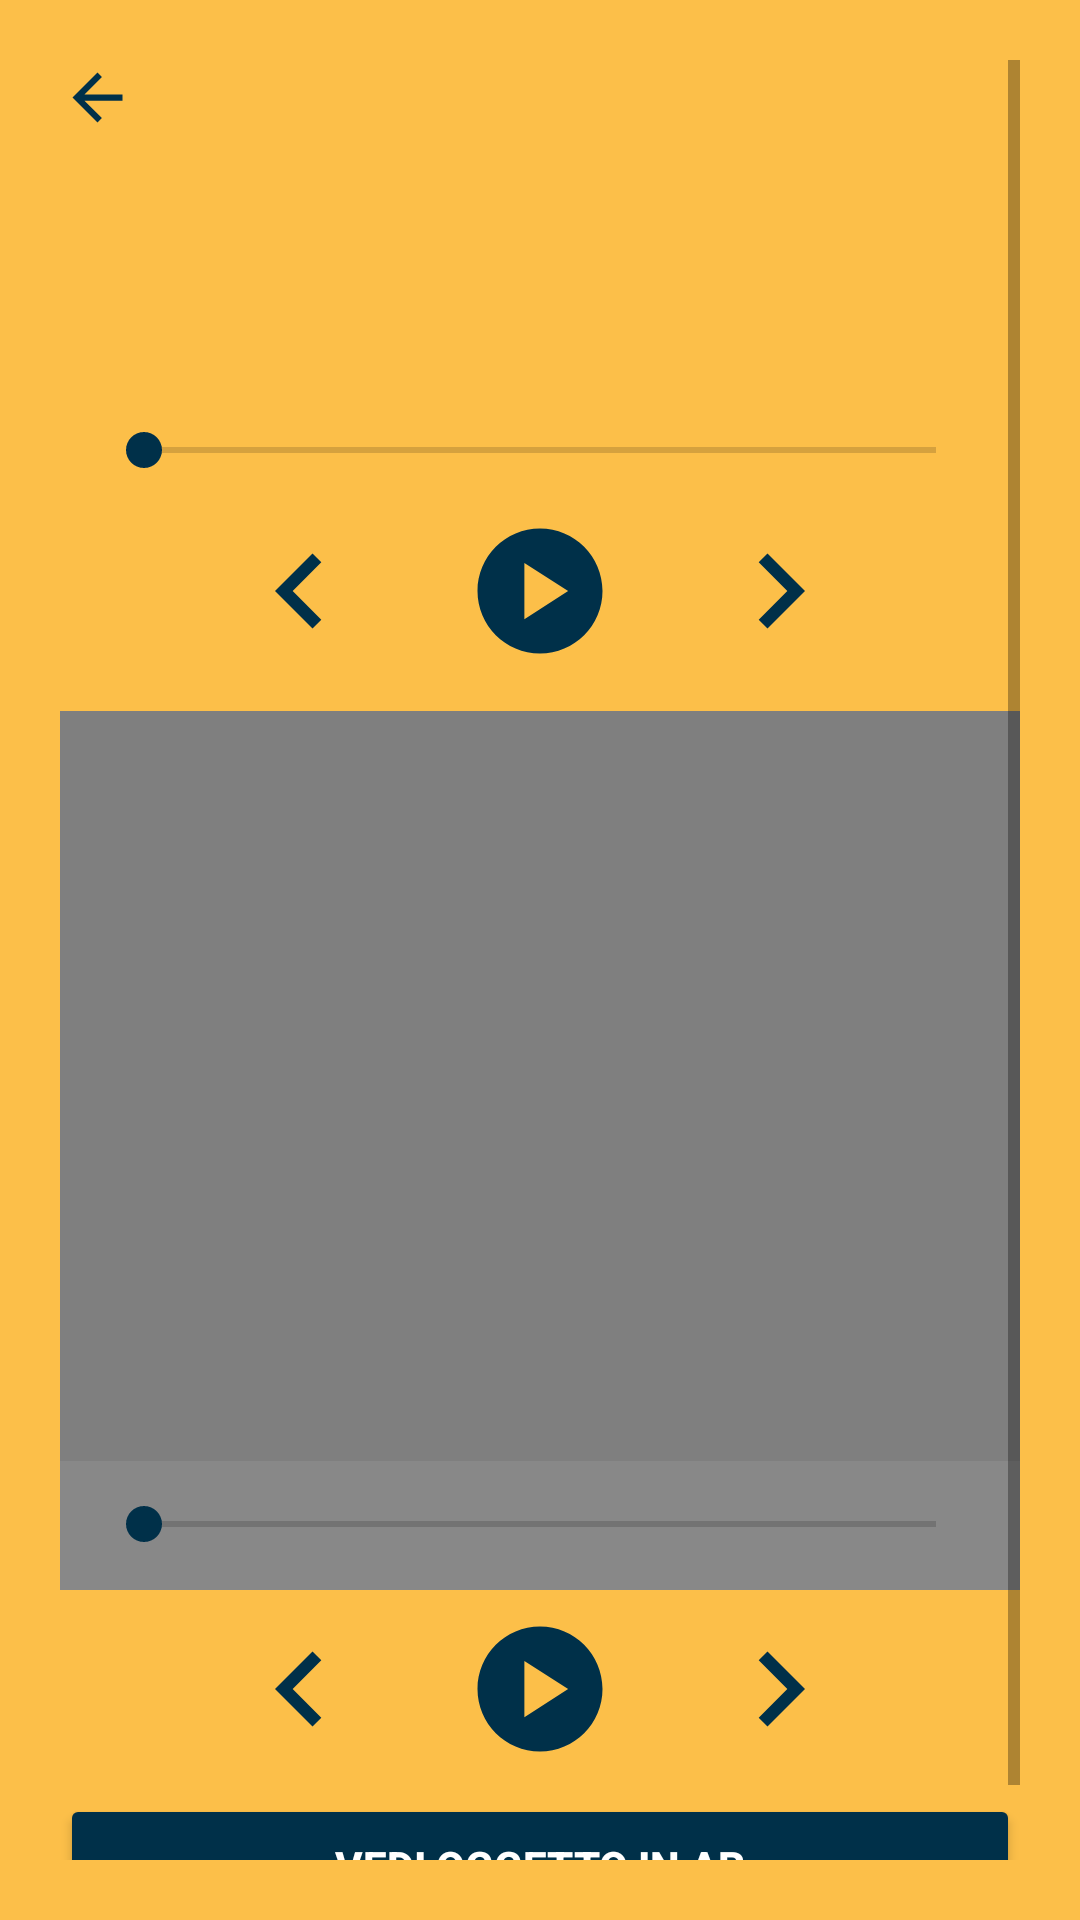

Icons on this 1080px×1920px Android screen, each with its box as [x1=x1, y1=y1, x2=x2, y2=y2]:
arrow back: [x1=72, y1=72, x2=123, y2=123]
left sign: [x1=275, y1=553, x2=321, y2=629], [x1=275, y1=1651, x2=321, y2=1727]
play circle: [x1=477, y1=528, x2=603, y2=654], [x1=477, y1=1626, x2=603, y2=1752]
right sign: [x1=759, y1=553, x2=805, y2=629], [x1=759, y1=1651, x2=805, y2=1727]
